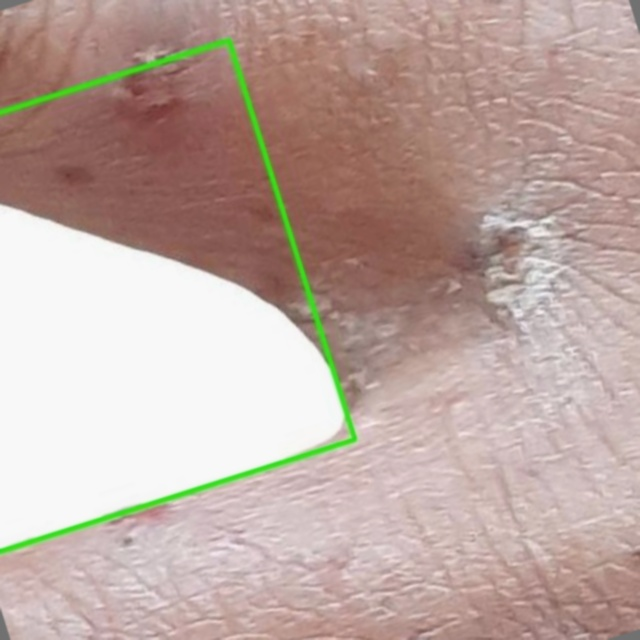Scabies: (0, 40, 354, 551)
